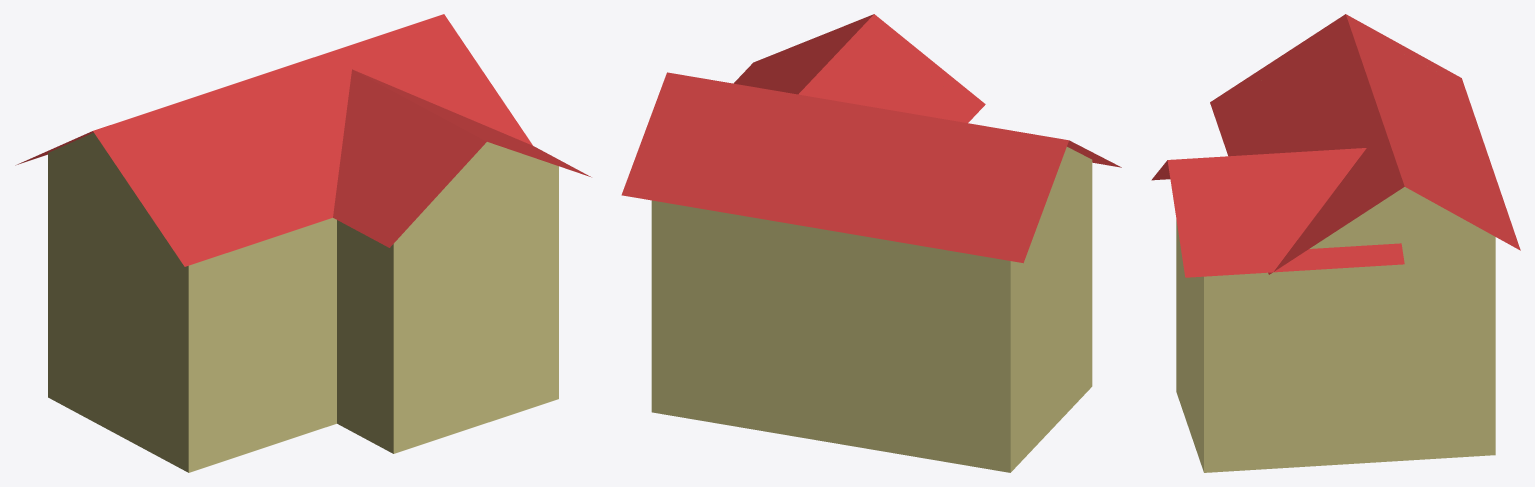
3 views of the same model, side by side, from view 1: azimuth 30°, elevation 25°; view 2: azimuth 150°, elevation 25°; view 3: azimuth 270°, elevation 25° (orthographic). The views are drawn at different scales.
Bounding box in the file's own units: 15.45 × 12.49 × 10.57.
